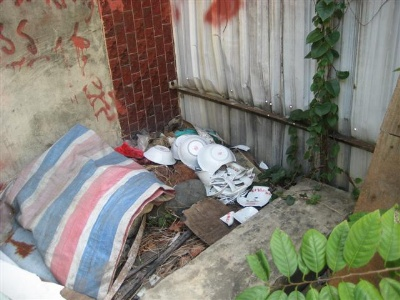bowl: (178, 136, 209, 170), (142, 145, 177, 165)
plastic_bag: (10, 127, 154, 290)
